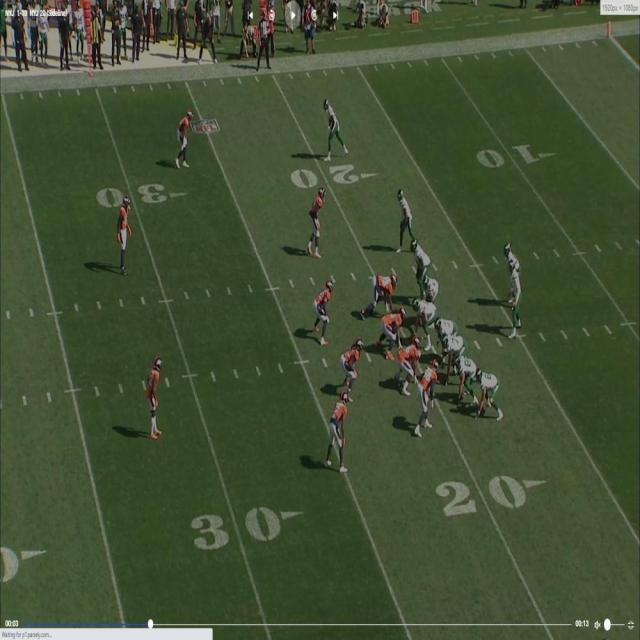center: (411, 298, 434, 339)
db: (330, 389, 348, 470), (147, 351, 161, 440), (116, 199, 130, 271), (178, 108, 194, 163)
lb: (420, 358, 438, 428), (316, 277, 335, 337), (308, 186, 324, 248), (343, 339, 362, 378)
qb: (507, 260, 520, 334)
skill: (476, 367, 502, 417), (454, 353, 478, 398), (322, 96, 339, 158), (399, 190, 415, 240), (413, 238, 431, 276), (504, 238, 516, 264)
